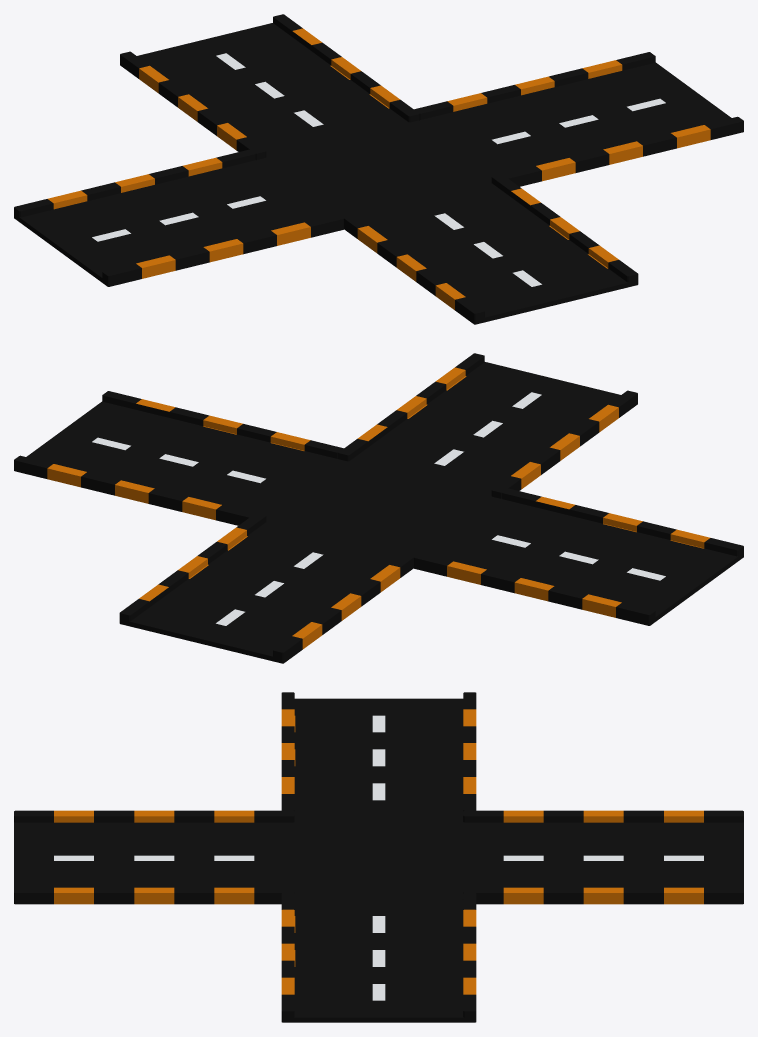
Rendered from Road_CrossIntersection_01.fbx.
3 views of the same model, one above another, from view 1: azimuth 30°, elevation 25°; view 2: azimuth 150°, elevation 25°; view 3: azimuth 270°, elevation 25° (orthographic). The views are drawn at different scales.
Parts seen in each view (by area): view 1: Road_CrossIntersection_01; view 2: Road_CrossIntersection_01; view 3: Road_CrossIntersection_01.
Boxes of the visible parts, x1,y1,x2,y2 form: Road_CrossIntersection_01: (14,14,743,324); Road_CrossIntersection_01: (14,353,743,663); Road_CrossIntersection_01: (14,692,743,1022).
Size of the model in its own units: 18.79 by 0.3084 by 18.16.
